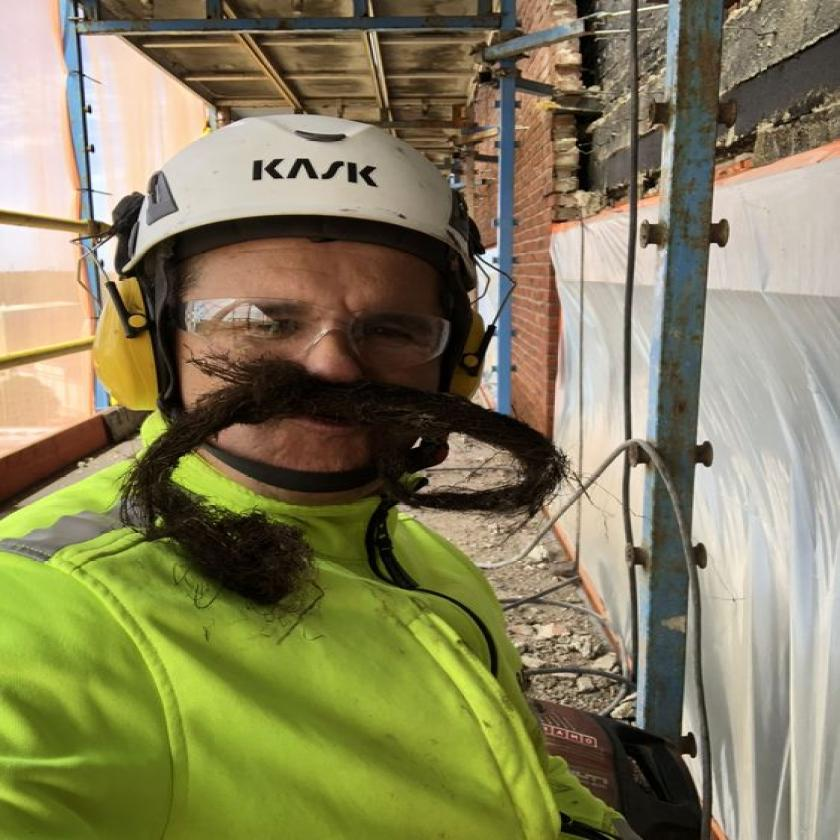Con_casco: (91, 112, 517, 551)
